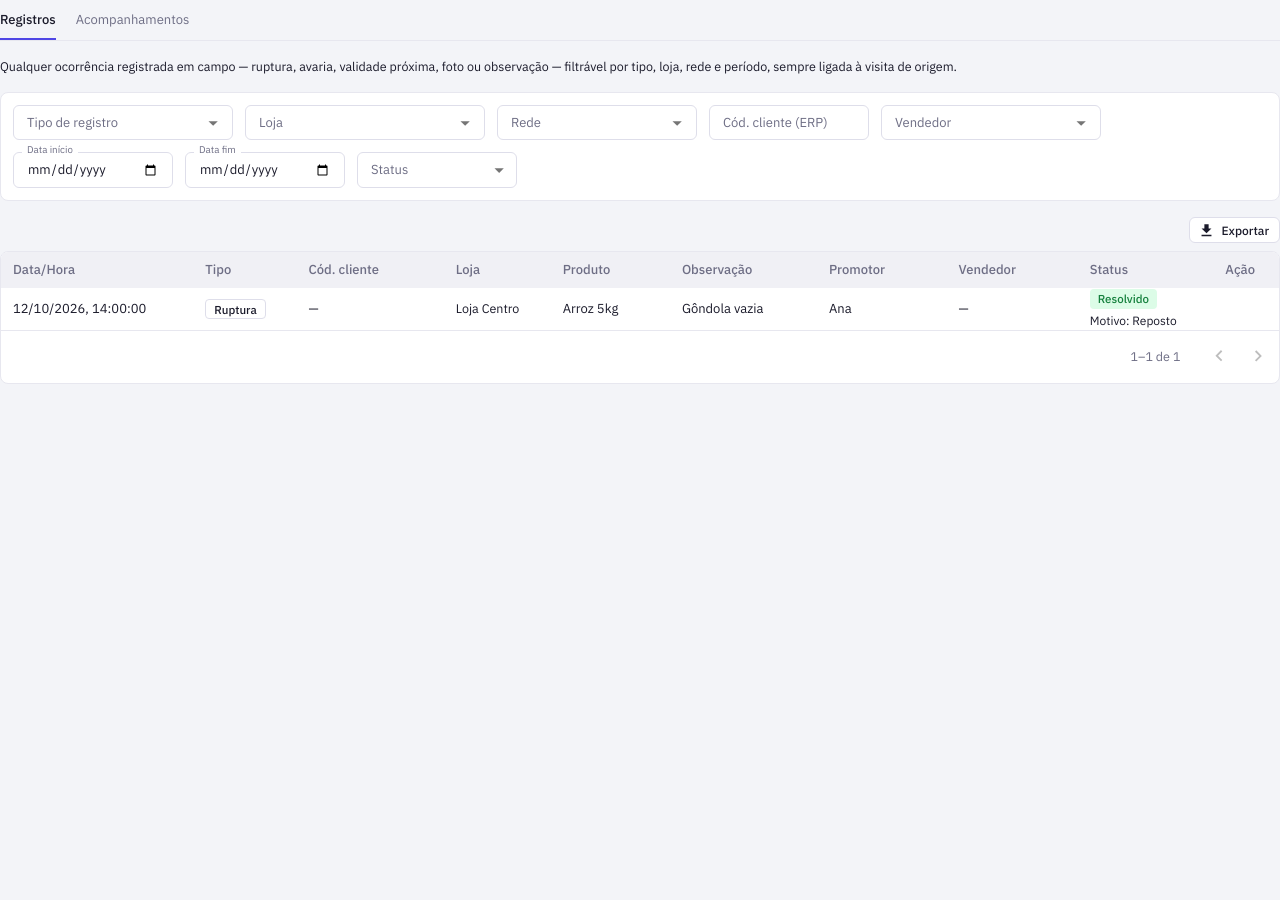
Scenario: RegistrosListPage › registro já resolvido não oferece Resolver
Click the text "Gôndola vazia".
click(743, 309)  # box [670, 288, 817, 330]
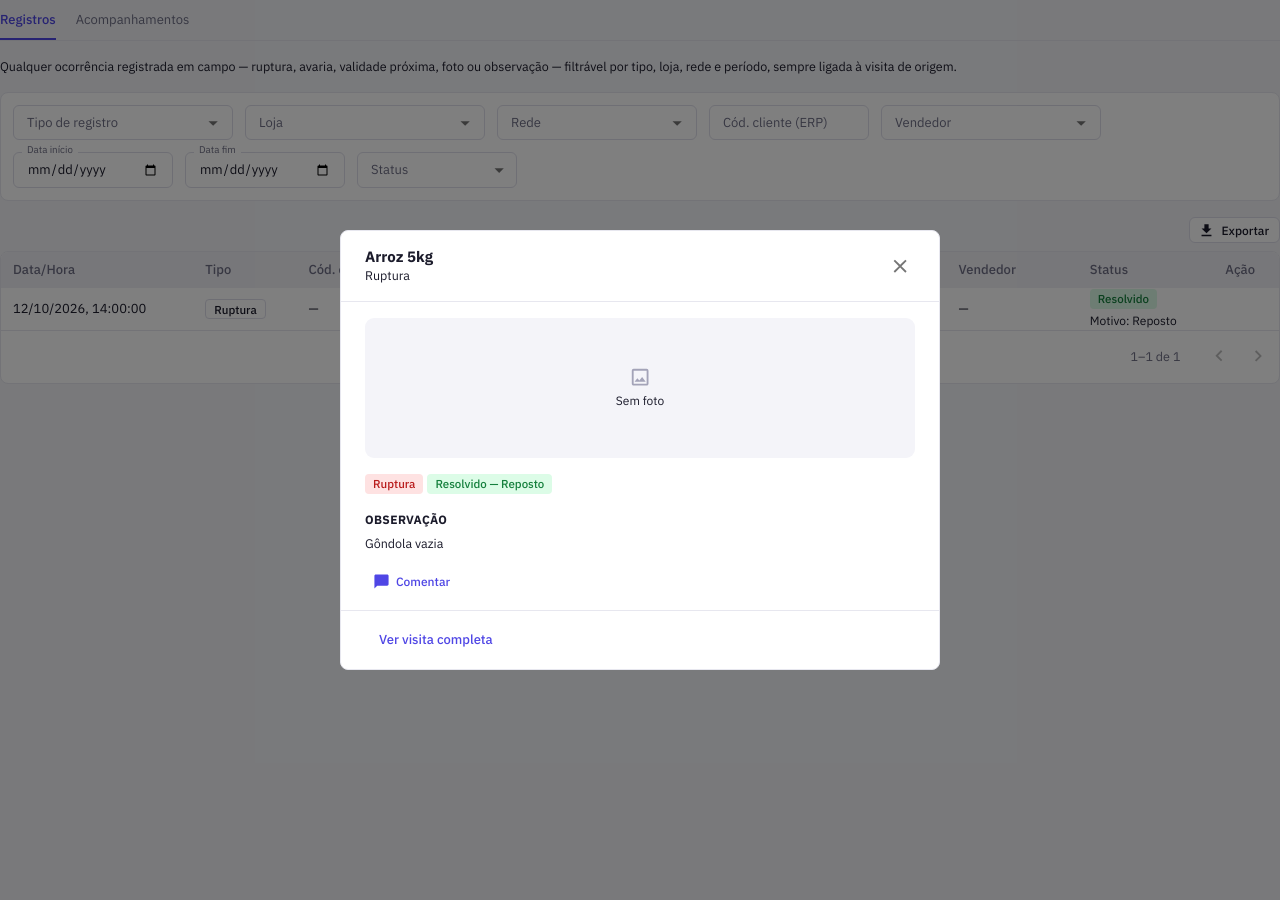
Expected: the dialog is shown, [340, 230, 940, 670]
Expected: the text "Resolvido — Reposto" is shown, [427, 475, 552, 493]
